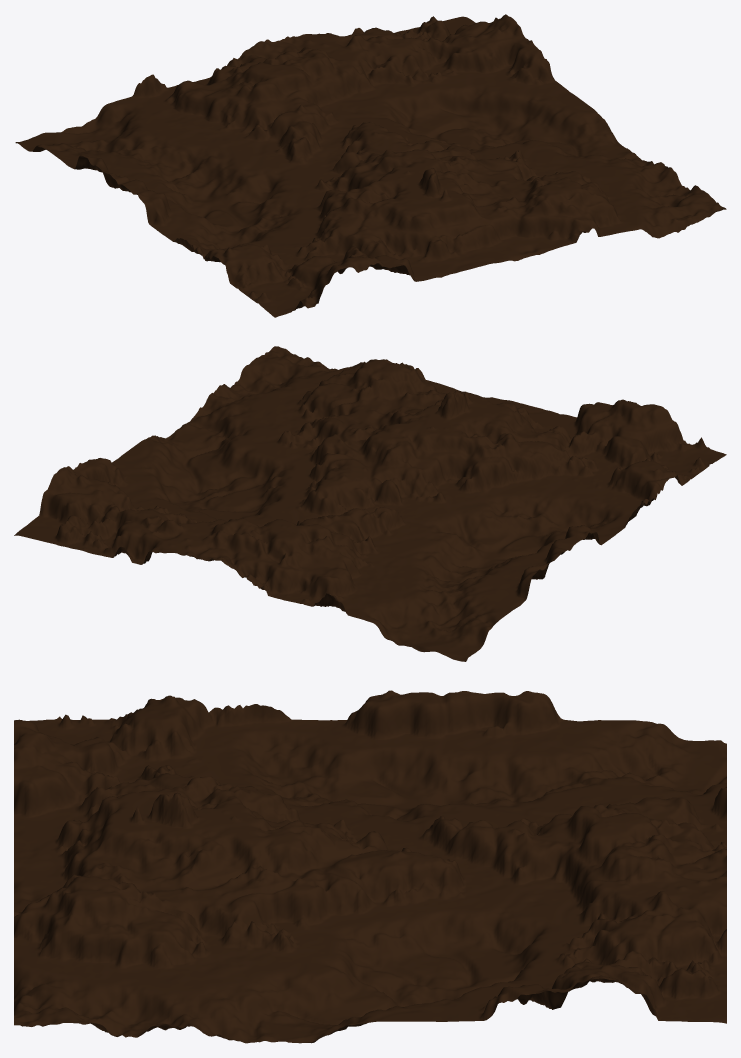
File: 2x2.3_cubes_500m_002.glb
3 renders of one model, top to bottom at view 1: azimuth 30°, elevation 25°; view 2: azimuth 150°, elevation 25°; view 3: azimuth 270°, elevation 25°, orthographic. The views are drawn at different scales.
Visible parts, largest first — view 1: Cube; view 2: Cube; view 3: Cube.
Part boxes in pixels (bbox=[...]): Cube: bbox=[15, 14, 726, 317]; Cube: bbox=[14, 346, 726, 661]; Cube: bbox=[14, 690, 726, 1043].
Size of the model in its own units: 500 by 83.95 by 500.
